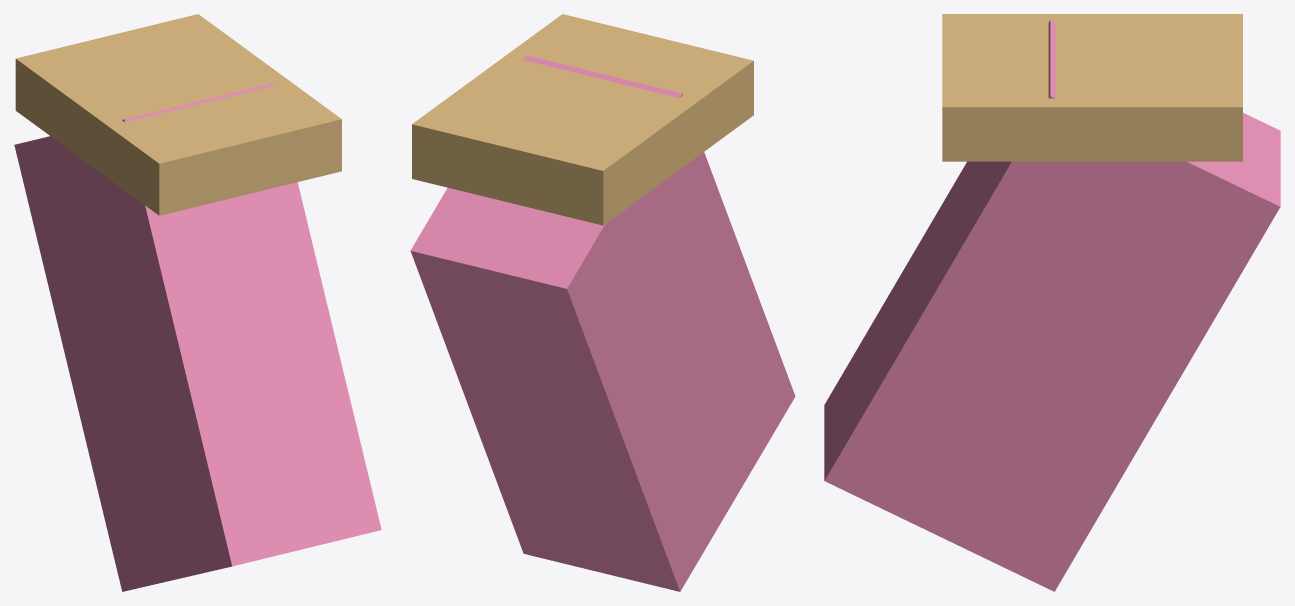
File: AngledGrip.obj
3 renders of one model, left to right at view 1: azimuth 30°, elevation 25°; view 2: azimuth 150°, elevation 25°; view 3: azimuth 270°, elevation 25°, orthographic. The views are drawn at different scales.
Parts seen in each view (by area): view 1: AngledGrip_Body, AngledGrip_Detail; view 2: AngledGrip_Body, AngledGrip_Detail; view 3: AngledGrip_Body, AngledGrip_Detail.
Part boxes in pixels (x1,y1,x2,y2): AngledGrip_Body: [14, 83, 381, 591]; AngledGrip_Detail: [15, 14, 341, 215]; AngledGrip_Body: [410, 55, 795, 591]; AngledGrip_Detail: [412, 14, 753, 225]; AngledGrip_Body: [824, 20, 1280, 591]; AngledGrip_Detail: [942, 14, 1242, 161].
Size of the model in its own units: 0.11 by 0.2729 by 0.2275.
